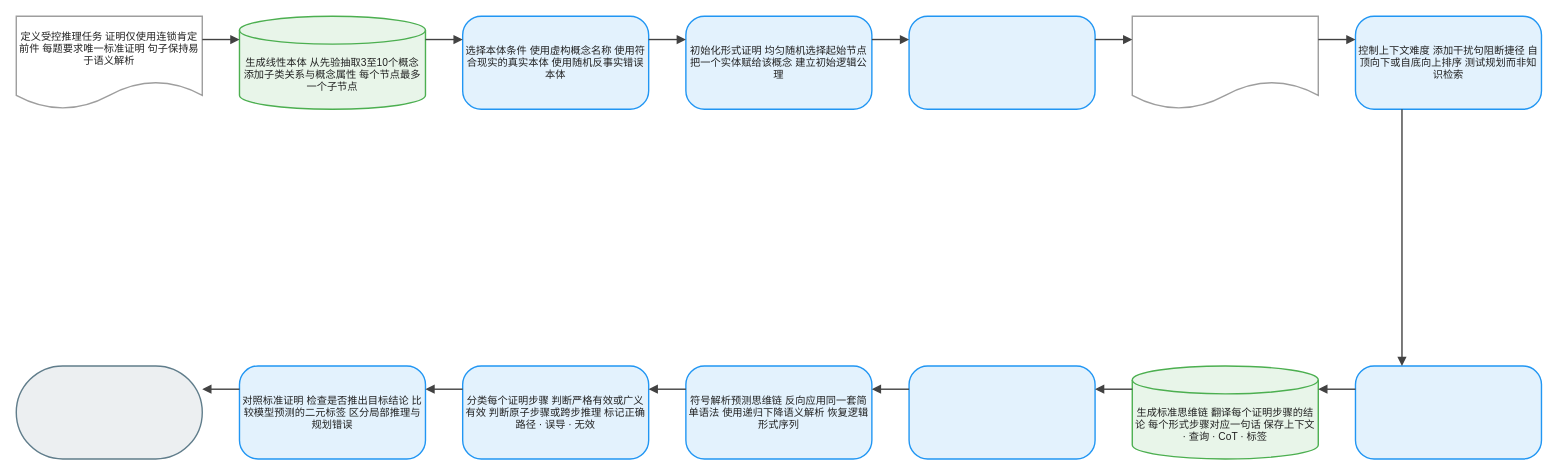
Image size: 1559x476. Some labels were removed from this diagram. Each missing label, with the centre of its shape:
"创建查询与二元标签 陈述证明中的初始实体事实 以0.5概率询问结论或其否定 标注True或False" belongs at pixel 1448 412.
"执行8-shot思维链评测 独立生成上下文示例 追加一个不含答案的测试题 解码模型思维链与标签" belongs at pixel 1001 412.
"报告形式推理指标 标签准确率 · 严格证明准确率 跨步 · 广义 · 有效证明准确率 按跳数顺序与本体拆分" belongs at pixel 109 412.
"沿本体向上遍历 每一跳应用一次推理规则 到目标节点或属性时停止 控制1跳 · 3跳 · 5跳证明" belongs at pixel 1001 62.
"渲染自然语言上下文 用语法映射每条边和属性 使用句法简单的表达变体 保持唯一的反向解析" belongs at pixel 1225 62.
